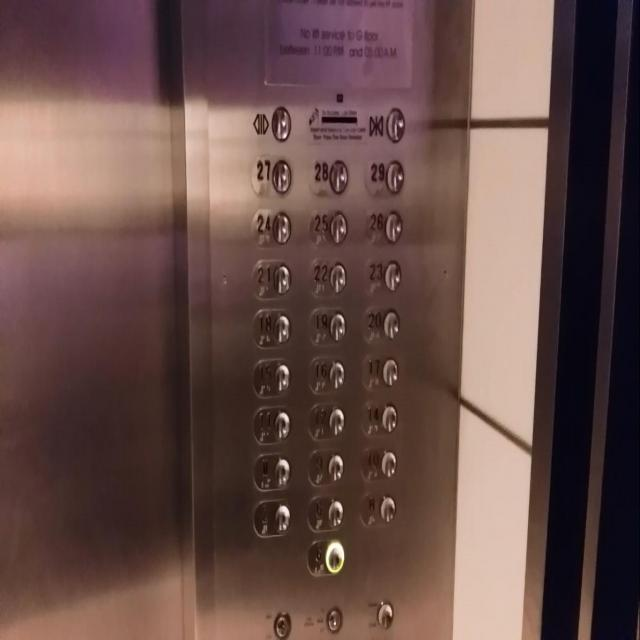10: (358, 442, 398, 483)
11: (250, 404, 292, 445)
12: (306, 401, 346, 442)
14: (359, 398, 398, 438)
15: (251, 357, 292, 399)
16: (306, 353, 346, 395)
17: (360, 352, 400, 392)
18: (251, 307, 292, 349)
19: (306, 305, 347, 347)
2: (252, 498, 293, 538)
20: (361, 304, 402, 345)
21: (251, 258, 292, 300)
22: (307, 255, 348, 296)
23: (362, 255, 402, 296)
24: (250, 206, 293, 249)
25: (307, 208, 348, 248)
26: (362, 208, 404, 246)
27: (250, 154, 293, 198)
28: (308, 152, 352, 198)
29: (362, 152, 406, 196)
6: (305, 493, 345, 534)
8: (358, 488, 398, 530)
9: (305, 447, 345, 488)
G: (306, 537, 345, 578)
blur: (252, 451, 293, 492)
close: (365, 102, 406, 148)
empty: (376, 600, 394, 631)
open: (250, 101, 293, 146)
